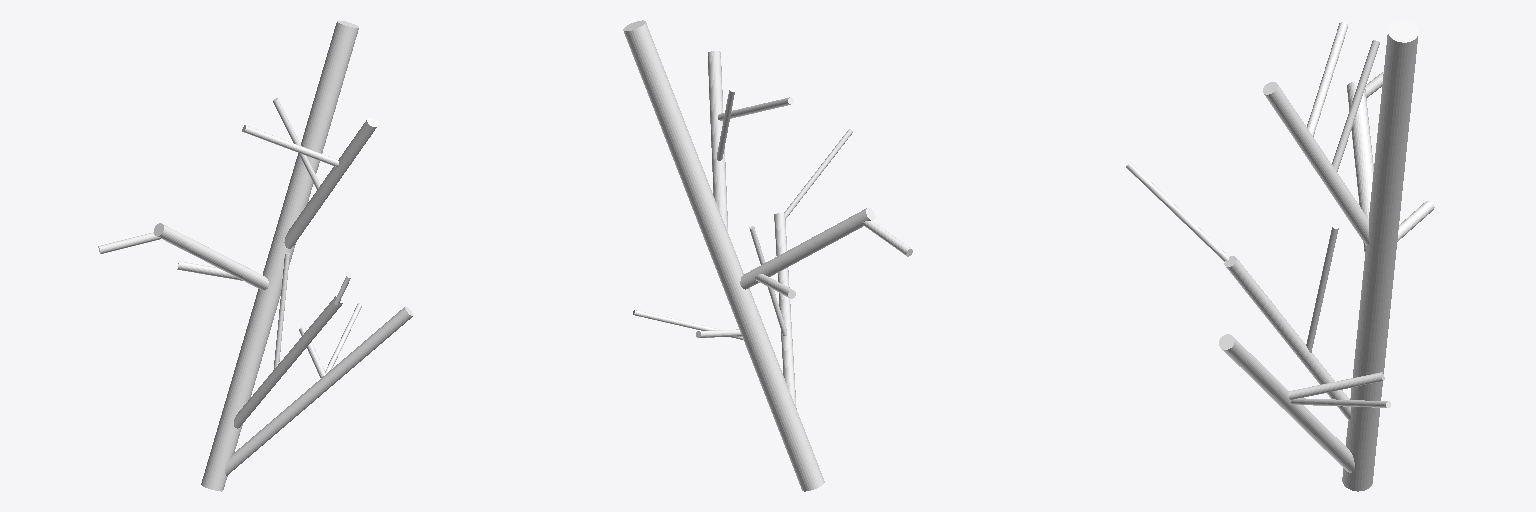
robot.urdf — tree_88.urdf:
<?xml version='1.0' encoding='UTF-8'?>
<robot name="tree_88.urdf">
  <link name="branch_0">
    <inertial>
      <origin xyz="0.0 0.0 0.0" rpy="0.0 -0.0 0.0"/>
      <mass value="1.0"/>
      <inertia ixx="1.0" ixy="0.0" ixz="0.0" iyy="1.0" iyz="0.0" izz="1.0"/>
    </inertial>
    <visual name="branch_0_visual">
      <geometry>
        <cylinder radius="0.18209778633545004" length="7.688614076492346"/>
      </geometry>
      <material name="branch_material"/>
      <origin xyz="1.3866965857865614 0.2704710808460206 3.575278251787256" rpy="-1.3621109900962925e-17 0.37633202417721834 0.19262860528741457"/>
    </visual>
    <collision name="branch_0_collision">
      <geometry>
        <cylinder radius="0.18209778633545004" length="7.688614076492346"/>
      </geometry>
      <origin xyz="1.3866965857865614 0.2704710808460206 3.575278251787256" rpy="-1.3621109900962925e-17 0.37633202417721834 0.19262860528741457"/>
    </collision>
  </link>
  <link name="branch_1">
    <inertial>
      <origin xyz="0.0 0.0 0.0" rpy="0.0 -0.0 0.0"/>
      <mass value="1.0"/>
      <inertia ixx="1.0" ixy="0.0" ixz="0.0" iyy="1.0" iyz="0.0" izz="1.0"/>
    </inertial>
    <visual name="branch_1_visual">
      <geometry>
        <cylinder radius="0.10050915349708332" length="4.203160802642058"/>
      </geometry>
      <material name="branch_material"/>
      <origin xyz="0.0 0.0 0.0" rpy="0.0 -0.0 0.0"/>
    </visual>
    <collision name="branch_1_collision">
      <geometry>
        <cylinder radius="0.10050915349708332" length="4.203160802642058"/>
      </geometry>
      <origin xyz="0.0 0.0 0.0" rpy="0.0 -0.0 0.0"/>
    </collision>
  </link>
  <link name="branch_2">
    <inertial>
      <origin xyz="0.0 0.0 0.0" rpy="0.0 -0.0 0.0"/>
      <mass value="1.0"/>
      <inertia ixx="1.0" ixy="0.0" ixz="0.0" iyy="1.0" iyz="0.0" izz="1.0"/>
    </inertial>
    <visual name="branch_2_visual">
      <geometry>
        <cylinder radius="0.05399834283746792" length="1.267364795363863"/>
      </geometry>
      <material name="branch_material"/>
      <origin xyz="0.0 0.0 0.0" rpy="0.0 -0.0 0.0"/>
    </visual>
    <collision name="branch_2_collision">
      <geometry>
        <cylinder radius="0.05399834283746792" length="1.267364795363863"/>
      </geometry>
      <origin xyz="0.0 0.0 0.0" rpy="0.0 -0.0 0.0"/>
    </collision>
  </link>
  <link name="branch_3">
    <inertial>
      <origin xyz="0.0 0.0 0.0" rpy="0.0 -0.0 0.0"/>
      <mass value="1.0"/>
      <inertia ixx="1.0" ixy="0.0" ixz="0.0" iyy="1.0" iyz="0.0" izz="1.0"/>
    </inertial>
    <visual name="branch_3_visual">
      <geometry>
        <cylinder radius="0.04" length="1.9521499783501821"/>
      </geometry>
      <material name="branch_material"/>
      <origin xyz="0.0 0.0 0.0" rpy="0.0 -0.0 0.0"/>
    </visual>
    <collision name="branch_3_collision">
      <geometry>
        <cylinder radius="0.04" length="1.9521499783501821"/>
      </geometry>
      <origin xyz="0.0 0.0 0.0" rpy="0.0 -0.0 0.0"/>
    </collision>
  </link>
  <link name="branch_4">
    <inertial>
      <origin xyz="0.0 0.0 0.0" rpy="0.0 -0.0 0.0"/>
      <mass value="1.0"/>
      <inertia ixx="1.0" ixy="0.0" ixz="0.0" iyy="1.0" iyz="0.0" izz="1.0"/>
    </inertial>
    <visual name="branch_4_visual">
      <geometry>
        <cylinder radius="0.08341044627918488" length="3.3060275348854957"/>
      </geometry>
      <material name="branch_material"/>
      <origin xyz="0.0 0.0 0.0" rpy="0.0 -0.0 0.0"/>
    </visual>
    <collision name="branch_4_collision">
      <geometry>
        <cylinder radius="0.08341044627918488" length="3.3060275348854957"/>
      </geometry>
      <origin xyz="0.0 0.0 0.0" rpy="0.0 -0.0 0.0"/>
    </collision>
  </link>
  <link name="branch_5">
    <inertial>
      <origin xyz="0.0 0.0 0.0" rpy="0.0 -0.0 0.0"/>
      <mass value="1.0"/>
      <inertia ixx="1.0" ixy="0.0" ixz="0.0" iyy="1.0" iyz="0.0" izz="1.0"/>
    </inertial>
    <visual name="branch_5_visual">
      <geometry>
        <cylinder radius="0.04" length="1.9659747686151035"/>
      </geometry>
      <material name="branch_material"/>
      <origin xyz="0.0 0.0 0.0" rpy="0.0 -0.0 0.0"/>
    </visual>
    <collision name="branch_5_collision">
      <geometry>
        <cylinder radius="0.04" length="1.9659747686151035"/>
      </geometry>
      <origin xyz="0.0 0.0 0.0" rpy="0.0 -0.0 0.0"/>
    </collision>
  </link>
  <link name="branch_6">
    <inertial>
      <origin xyz="0.0 0.0 0.0" rpy="0.0 -0.0 0.0"/>
      <mass value="1.0"/>
      <inertia ixx="1.0" ixy="0.0" ixz="0.0" iyy="1.0" iyz="0.0" izz="1.0"/>
    </inertial>
    <visual name="branch_6_visual">
      <geometry>
        <cylinder radius="0.04033711367770763" length="1.7628867466821114"/>
      </geometry>
      <material name="branch_material"/>
      <origin xyz="0.0 0.0 0.0" rpy="0.0 -0.0 0.0"/>
    </visual>
    <collision name="branch_6_collision">
      <geometry>
        <cylinder radius="0.04033711367770763" length="1.7628867466821114"/>
      </geometry>
      <origin xyz="0.0 0.0 0.0" rpy="0.0 -0.0 0.0"/>
    </collision>
  </link>
  <link name="branch_7">
    <inertial>
      <origin xyz="0.0 0.0 0.0" rpy="0.0 -0.0 0.0"/>
      <mass value="1.0"/>
      <inertia ixx="1.0" ixy="0.0" ixz="0.0" iyy="1.0" iyz="0.0" izz="1.0"/>
    </inertial>
    <visual name="branch_7_visual">
      <geometry>
        <cylinder radius="0.10852832734901253" length="2.7138384856507"/>
      </geometry>
      <material name="branch_material"/>
      <origin xyz="0.0 0.0 0.0" rpy="0.0 -0.0 0.0"/>
    </visual>
    <collision name="branch_7_collision">
      <geometry>
        <cylinder radius="0.10852832734901253" length="2.7138384856507"/>
      </geometry>
      <origin xyz="0.0 0.0 0.0" rpy="0.0 -0.0 0.0"/>
    </collision>
  </link>
  <link name="branch_8">
    <inertial>
      <origin xyz="0.0 0.0 0.0" rpy="0.0 -0.0 0.0"/>
      <mass value="1.0"/>
      <inertia ixx="1.0" ixy="0.0" ixz="0.0" iyy="1.0" iyz="0.0" izz="1.0"/>
    </inertial>
    <visual name="branch_8_visual">
      <geometry>
        <cylinder radius="0.06843282601514535" length="1.1997694925257"/>
      </geometry>
      <material name="branch_material"/>
      <origin xyz="0.0 0.0 0.0" rpy="0.0 -0.0 0.0"/>
    </visual>
    <collision name="branch_8_collision">
      <geometry>
        <cylinder radius="0.06843282601514535" length="1.1997694925257"/>
      </geometry>
      <origin xyz="0.0 0.0 0.0" rpy="0.0 -0.0 0.0"/>
    </collision>
  </link>
  <link name="branch_9">
    <inertial>
      <origin xyz="0.0 0.0 0.0" rpy="0.0 -0.0 0.0"/>
      <mass value="1.0"/>
      <inertia ixx="1.0" ixy="0.0" ixz="0.0" iyy="1.0" iyz="0.0" izz="1.0"/>
    </inertial>
    <visual name="branch_9_visual">
      <geometry>
        <cylinder radius="0.06564658153260439" length="1.083370850141267"/>
      </geometry>
      <material name="branch_material"/>
      <origin xyz="0.0 0.0 0.0" rpy="0.0 -0.0 0.0"/>
    </visual>
    <collision name="branch_9_collision">
      <geometry>
        <cylinder radius="0.06564658153260439" length="1.083370850141267"/>
      </geometry>
      <origin xyz="0.0 0.0 0.0" rpy="0.0 -0.0 0.0"/>
    </collision>
  </link>
  <link name="branch_10">
    <inertial>
      <origin xyz="0.0 0.0 0.0" rpy="0.0 -0.0 0.0"/>
      <mass value="1.0"/>
      <inertia ixx="1.0" ixy="0.0" ixz="0.0" iyy="1.0" iyz="0.0" izz="1.0"/>
    </inertial>
    <visual name="branch_10_visual">
      <geometry>
        <cylinder radius="0.10037025782424189" length="3.0128346845292926"/>
      </geometry>
      <material name="branch_material"/>
      <origin xyz="0.0 0.0 0.0" rpy="0.0 -0.0 0.0"/>
    </visual>
    <collision name="branch_10_collision">
      <geometry>
        <cylinder radius="0.10037025782424189" length="3.0128346845292926"/>
      </geometry>
      <origin xyz="0.0 0.0 0.0" rpy="0.0 -0.0 0.0"/>
    </collision>
  </link>
  <link name="branch_11">
    <inertial>
      <origin xyz="0.0 0.0 0.0" rpy="0.0 -0.0 0.0"/>
      <mass value="1.0"/>
      <inertia ixx="1.0" ixy="0.0" ixz="0.0" iyy="1.0" iyz="0.0" izz="1.0"/>
    </inertial>
    <visual name="branch_11_visual">
      <geometry>
        <cylinder radius="0.05597652908801048" length="1.7865541225313368"/>
      </geometry>
      <material name="branch_material"/>
      <origin xyz="0.0 0.0 0.0" rpy="0.0 -0.0 0.0"/>
    </visual>
    <collision name="branch_11_collision">
      <geometry>
        <cylinder radius="0.05597652908801048" length="1.7865541225313368"/>
      </geometry>
      <origin xyz="0.0 0.0 0.0" rpy="0.0 -0.0 0.0"/>
    </collision>
  </link>
  <link name="branch_12">
    <inertial>
      <origin xyz="0.0 0.0 0.0" rpy="0.0 -0.0 0.0"/>
      <mass value="1.0"/>
      <inertia ixx="1.0" ixy="0.0" ixz="0.0" iyy="1.0" iyz="0.0" izz="1.0"/>
    </inertial>
    <visual name="branch_12_visual">
      <geometry>
        <cylinder radius="0.04620828407813081" length="1.719970197414761"/>
      </geometry>
      <material name="branch_material"/>
      <origin xyz="0.0 0.0 0.0" rpy="0.0 -0.0 0.0"/>
    </visual>
    <collision name="branch_12_collision">
      <geometry>
        <cylinder radius="0.04620828407813081" length="1.719970197414761"/>
      </geometry>
      <origin xyz="0.0 0.0 0.0" rpy="0.0 -0.0 0.0"/>
    </collision>
  </link>
  <joint name="joint_0_1" type="fixed">
    <parent link="branch_0"/>
    <child link="branch_1"/>
    <axis xyz="1. 0. 0."/>
    <origin xyz="1.365924257887995 -0.7679274079385392 1.6011927649763908" rpy="-0.4426054155577831 0.7025168890804534 -1.170583398936585"/>
  </joint>
  <joint name="joint_0_4" type="fixed">
    <parent link="branch_0"/>
    <child link="branch_4"/>
    <axis xyz="1. 0. 0."/>
    <origin xyz="0.8885114849537438 -0.7188838189888298 2.188499715389433" rpy="-0.4210918525092296 0.47213429089931547 -1.7268974133088477"/>
  </joint>
  <joint name="joint_0_7" type="fixed">
    <parent link="branch_0"/>
    <child link="branch_7"/>
    <axis xyz="1. 0. 0."/>
    <origin xyz="0.11195962003902322 0.10725508825065597 3.894257967948055" rpy="0.039725235428820345 0.9384161113347442 -2.976369373345525"/>
  </joint>
  <joint name="joint_0_10" type="fixed">
    <parent link="branch_0"/>
    <child link="branch_10"/>
    <axis xyz="1. 0. 0."/>
    <origin xyz="1.857537174752796 -0.37869565694476215 4.912760892078836" rpy="-0.39754708502426145 0.39696466620811105 -1.7955018495915933"/>
  </joint>
  <joint name="joint_1_2" type="fixed">
    <parent link="branch_0"/>
    <child link="branch_2"/>
    <axis xyz="1. 0. 0."/>
    <origin xyz="1.6802125596582373 -0.2902720204176797 2.0039604102804938" rpy="1.135024589084226 0.7668493444189705 2.620909179431448"/>
  </joint>
  <joint name="joint_1_3" type="fixed">
    <parent link="branch_0"/>
    <child link="branch_3"/>
    <axis xyz="1. 0. 0."/>
    <origin xyz="2.1792702289012027 -0.2319485328551815 2.0270528213707295" rpy="1.1610286843983724 0.6610490804843079 2.0144586725433493"/>
  </joint>
  <joint name="joint_4_5" type="fixed">
    <parent link="branch_0"/>
    <child link="branch_5"/>
    <axis xyz="1. 0. 0."/>
    <origin xyz="1.0079934788363072 -0.4287776750792877 2.9265273785813033" rpy="0.2523441413448043 0.1096839967215453 1.8551239817315959"/>
  </joint>
  <joint name="joint_4_6" type="fixed">
    <parent link="branch_0"/>
    <child link="branch_6"/>
    <axis xyz="1. 0. 0."/>
    <origin xyz="1.1613431244611563 -2.080998537174447 3.9916587847377354" rpy="-0.7439038351178351 0.5361692000757113 -3.0051561826483058"/>
  </joint>
  <joint name="joint_7_8" type="fixed">
    <parent link="branch_0"/>
    <child link="branch_8"/>
    <axis xyz="1. 0. 0."/>
    <origin xyz="0.36977477259633384 0.5239612551692648 3.434896756997656" rpy="-1.358151271438539 0.7388772015104688 1.1259920925249163"/>
  </joint>
  <joint name="joint_7_9" type="fixed">
    <parent link="branch_0"/>
    <child link="branch_9"/>
    <axis xyz="1. 0. 0."/>
    <origin xyz="-1.3415933416248933 0.1630423612170803 4.498530601222361" rpy="-1.9552177168025062 1.0948512284413532 0.9091698206525982"/>
  </joint>
  <joint name="joint_10_11" type="fixed">
    <parent link="branch_0"/>
    <child link="branch_11"/>
    <axis xyz="1. 0. 0."/>
    <origin xyz="1.2463858933598289 -0.38215729335530985 5.75661278853726" rpy="-0.5775340074385222 0.9933192519115351 2.2017759931220717"/>
  </joint>
  <joint name="joint_10_12" type="fixed">
    <parent link="branch_0"/>
    <child link="branch_12"/>
    <axis xyz="1. 0. 0."/>
    <origin xyz="1.5401586919292678 -0.04409542406783874 5.553849034973509" rpy="-0.058127594460987426 0.45738174228758616 2.2314740918301563"/>
  </joint>
  <material name="branch_material">
    <color rgba="1. 1. 1. 1."/>
  </material>
</robot>

--- Render facts (derived) ---
Views: 3 orthographic renders of the robot side by side, from view 1: azimuth 30°, elevation 25°; view 2: azimuth 150°, elevation 25°; view 3: azimuth 270°, elevation 25°.
Robot: tree_88.urdf — 13 links, 12 joints (12 fixed); root link branch_0; default pose: every joint at zero.
Links seen in each view (by area): view 1: branch_0, branch_1, branch_10, branch_7, branch_4, branch_11, branch_5; view 2: branch_0, branch_7, branch_10, branch_4, branch_6, branch_11; view 3: branch_0, branch_10, branch_1, branch_4, branch_7, branch_11, branch_12, branch_6, branch_2, branch_5, branch_3.
Boxes of the visible links, left/top/right/bottom form: branch_0: left=201, top=21, right=358, bottom=491; branch_1: left=225, top=306, right=413, bottom=475; branch_10: left=284, top=118, right=377, bottom=248; branch_7: left=154, top=223, right=268, bottom=289; branch_4: left=234, top=295, right=344, bottom=428; branch_11: left=242, top=125, right=338, bottom=166; branch_5: left=274, top=253, right=289, bottom=368; branch_0: left=623, top=20, right=824, bottom=491; branch_7: left=740, top=208, right=875, bottom=289; branch_10: left=708, top=51, right=727, bottom=231; branch_4: left=774, top=213, right=796, bottom=408; branch_6: left=784, top=129, right=852, bottom=218; branch_11: left=718, top=97, right=793, bottom=120; branch_0: left=1342, top=20, right=1418, bottom=491; branch_10: left=1263, top=82, right=1368, bottom=245; branch_1: left=1219, top=334, right=1354, bottom=472; branch_4: left=1224, top=256, right=1350, bottom=420; branch_7: left=1347, top=81, right=1373, bottom=251; branch_11: left=1307, top=22, right=1347, bottom=136; branch_12: left=1332, top=40, right=1379, bottom=171; branch_6: left=1126, top=162, right=1228, bottom=261; branch_2: left=1289, top=372, right=1384, bottom=399; branch_5: left=1306, top=225, right=1338, bottom=352; branch_3: left=1291, top=398, right=1390, bottom=407.
Bounding box of the posed robot: 4.82 × 3.66 × 7.28 m (x, y, z).
Geometry: primitives only (box / cylinder / sphere), no mesh files.